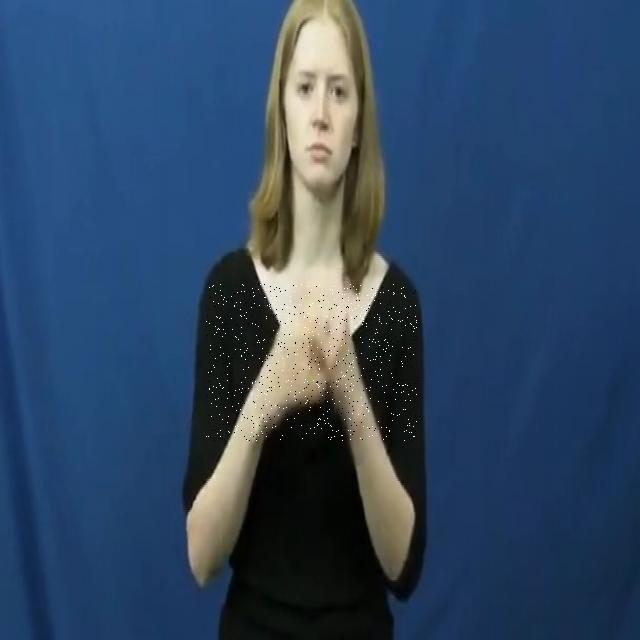additional: (206, 284, 418, 441)
